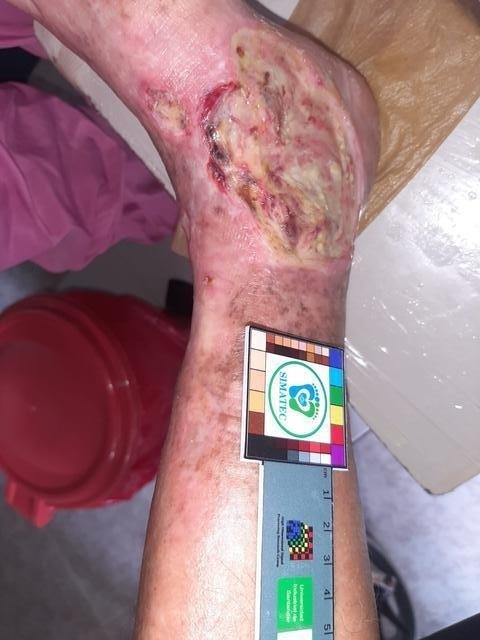wound: (200, 20, 362, 264), (144, 85, 194, 135)
